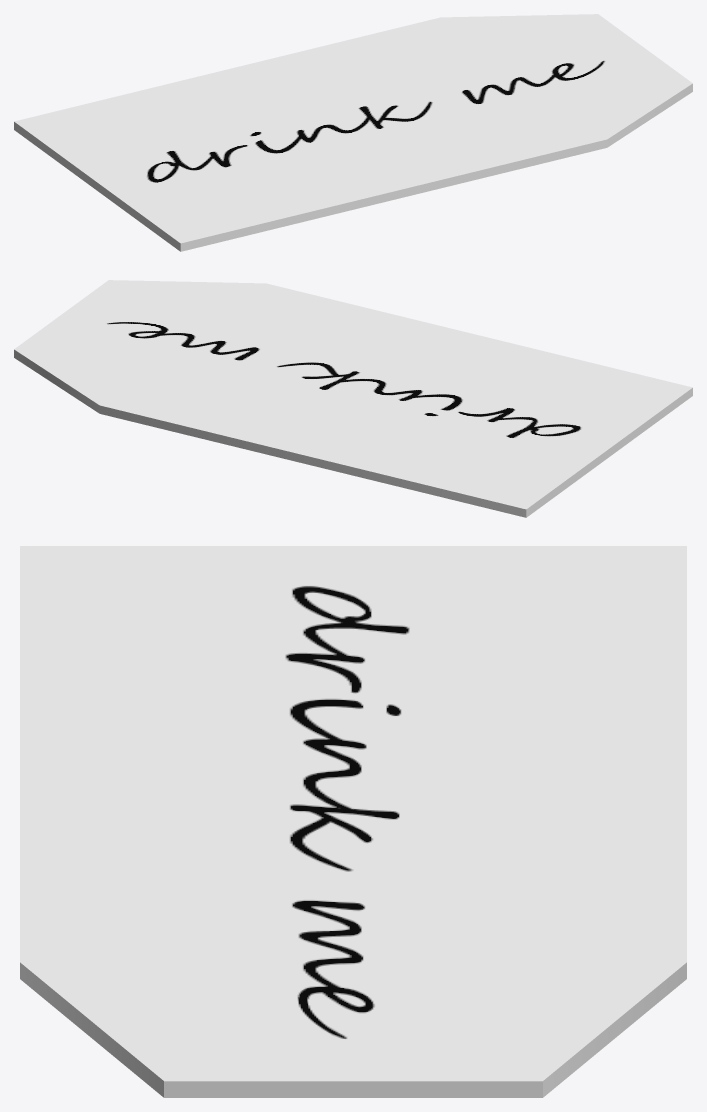
Rendered from drinkmetag.FBX.
The picture shows the model from 3 angles, top to bottom: view 1: azimuth 30°, elevation 25°; view 2: azimuth 150°, elevation 25°; view 3: azimuth 270°, elevation 25°; orthographic projection. The views are drawn at different scales.
Visible parts, largest first — view 1: Plane001; view 2: Plane001; view 3: Plane001.
Part boxes in pixels (box(x1,y1,x2,y2)): Plane001: box(14, 14, 692, 251); Plane001: box(14, 280, 692, 517); Plane001: box(20, 546, 686, 1097).
Bounding box in the file's own units: 68.3 × 1 × 35.96.
